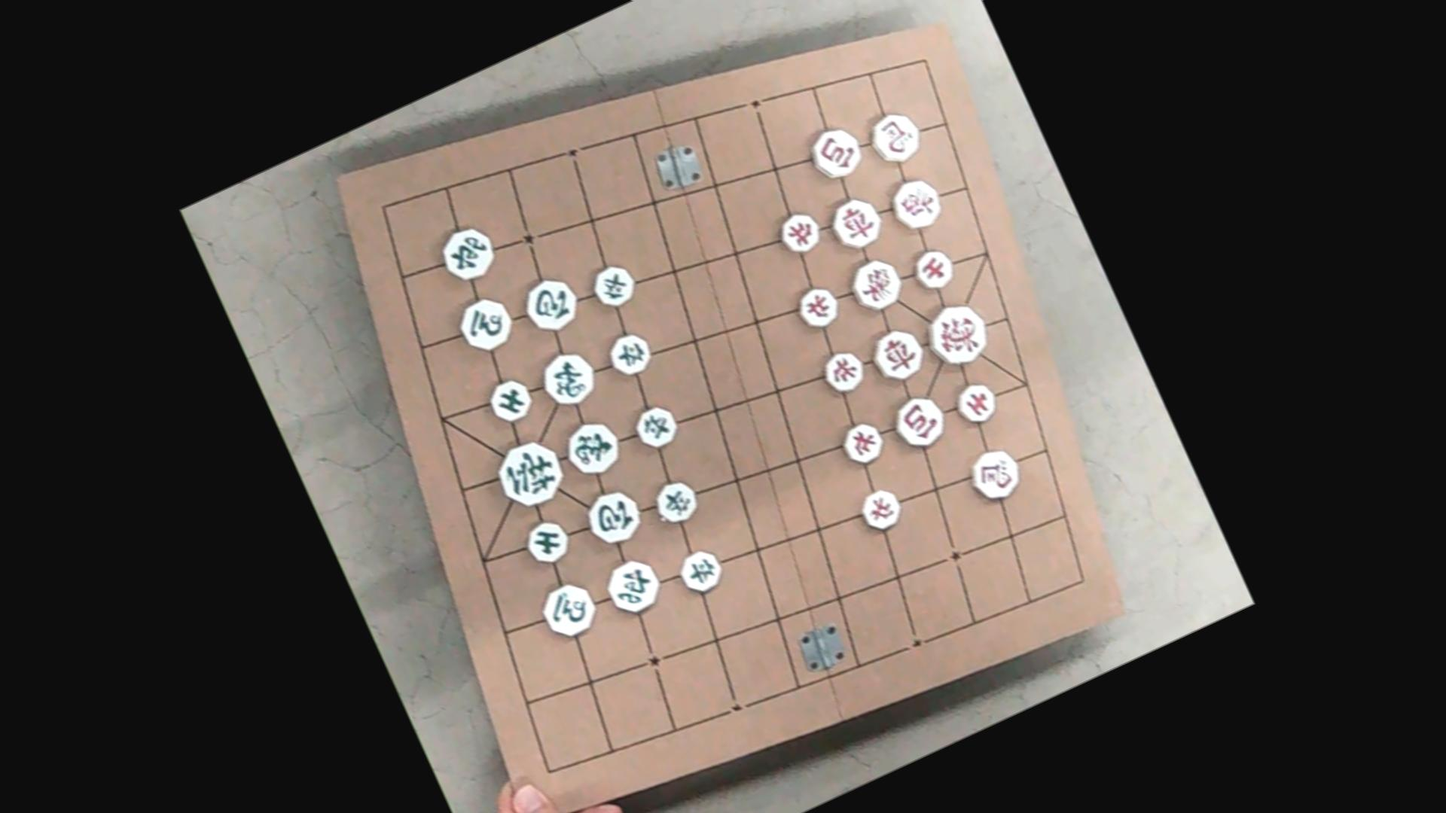cha_green: (435, 222, 502, 288), (599, 555, 667, 620)
cha_red: (865, 324, 930, 387), (825, 193, 888, 255)
jol_green: (674, 547, 728, 598), (603, 330, 657, 381), (587, 261, 640, 312), (650, 478, 703, 528), (630, 403, 682, 452)
jol_red: (773, 208, 826, 259), (837, 419, 889, 469), (818, 347, 870, 397), (792, 284, 844, 333), (856, 486, 907, 535)
ma_green: (536, 579, 602, 644), (453, 294, 519, 358)
ma_red: (963, 444, 1028, 507), (863, 108, 927, 170)
po_green: (579, 485, 648, 551), (517, 273, 584, 337)
po_red: (887, 391, 952, 455), (804, 123, 868, 184)
sa_green: (521, 518, 575, 568), (484, 376, 536, 426)
sa_red: (950, 379, 1002, 429), (908, 245, 959, 295)
sang_green: (535, 346, 602, 412), (559, 416, 627, 481)
sang_red: (844, 254, 908, 317), (884, 174, 947, 236)
wang_green: (488, 433, 572, 515)
wang_red: (919, 297, 995, 372)
